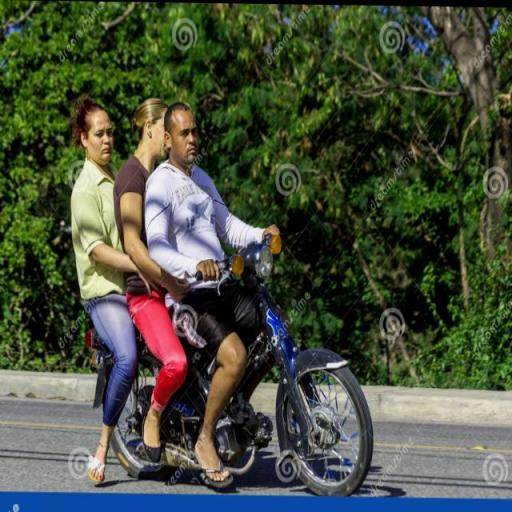tripple riding: (64, 79, 278, 496)
